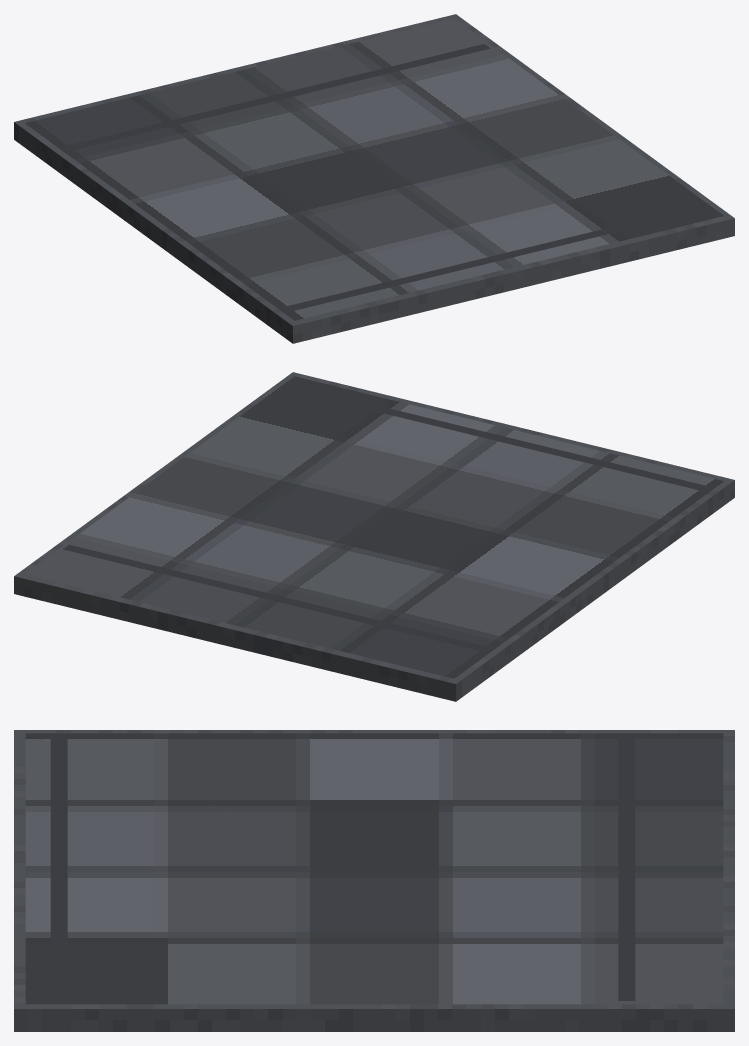
The model's file is sheet_nylon_patchwork.glb.
3 renders of one model, top to bottom at view 1: azimuth 30°, elevation 25°; view 2: azimuth 150°, elevation 25°; view 3: azimuth 270°, elevation 25°, orthographic. The views are drawn at different scales.
Parts seen in each view (by area): view 1: block_stitched patchwork, block_flat stock, block_edge crease (×2); view 2: block_stitched patchwork, block_flat stock, block_edge crease (×2); view 3: block_stitched patchwork, block_flat stock, block_edge crease (×2).
Boxes of the visible parts, bbox=[...] form: block_stitched patchwork: bbox=[25, 18, 723, 320]; block_flat stock: bbox=[14, 14, 734, 343]; block_edge crease (×2): bbox=[63, 44, 709, 311]; block_stitched patchwork: bbox=[25, 376, 723, 678]; block_flat stock: bbox=[14, 372, 734, 701]; block_edge crease (×2): bbox=[63, 384, 709, 652]; block_stitched patchwork: bbox=[25, 733, 723, 1004]; block_flat stock: bbox=[14, 730, 734, 1031]; block_edge crease (×2): bbox=[50, 735, 635, 1000].
Size of the model in its own units: 0.1047 by 0.00426 by 0.1145.
Materials: 1 (1 with a texture image).
